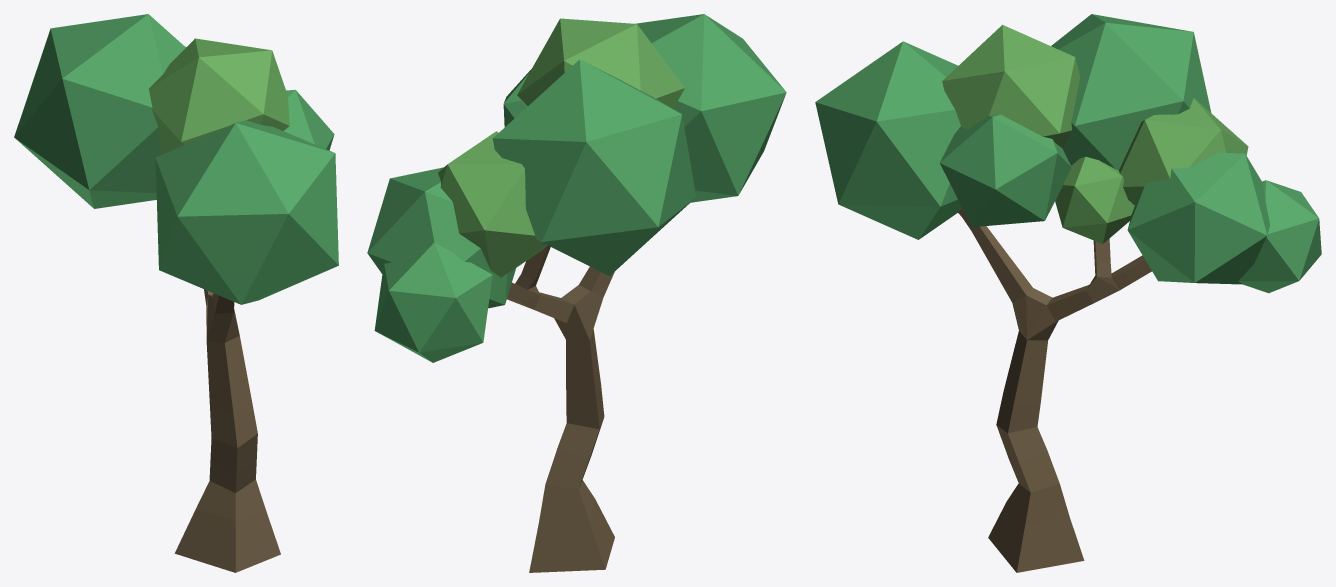
File: Tree.fbx
The picture shows the model from 3 angles, left to right: view 1: azimuth 30°, elevation 25°; view 2: azimuth 150°, elevation 25°; view 3: azimuth 270°, elevation 25°; orthographic projection. The views are drawn at different scales.
Parts seen in each view (by area): view 1: Icosphere.003, Icosphere.006, Cube, Icosphere.002, Icosphere.005; view 2: Icosphere.006, Icosphere.003, Cube, Icosphere, Icosphere.001, Icosphere.002, Icosphere.007, Icosphere.005; view 3: Icosphere.003, Cube, Icosphere.006, Icosphere.007, Icosphere.002, Icosphere.005, Icosphere.001, Icosphere, Icosphere.004.
Part boxes in pixels (x1,y1,x2,y2): Icosphere.003: [155, 120, 338, 304]; Icosphere.006: [14, 14, 185, 208]; Cube: [174, 289, 280, 572]; Icosphere.002: [149, 38, 289, 154]; Icosphere.005: [284, 89, 334, 150]; Icosphere.006: [493, 59, 696, 276]; Icosphere.003: [636, 14, 786, 202]; Cube: [507, 245, 614, 572]; Icosphere: [374, 242, 492, 362]; Icosphere.001: [438, 131, 547, 277]; Icosphere.002: [517, 18, 684, 108]; Icosphere.007: [367, 167, 515, 308]; Icosphere.005: [503, 69, 531, 126]; Icosphere.003: [815, 41, 961, 239]; Cube: [957, 208, 1151, 572]; Icosphere.006: [1051, 14, 1211, 170]; Icosphere.007: [1127, 152, 1269, 284]; Icosphere.002: [942, 24, 1080, 148]; Icosphere.005: [940, 114, 1071, 227]; Icosphere.001: [1119, 98, 1248, 205]; Icosphere: [1238, 180, 1321, 293]; Icosphere.004: [1055, 156, 1134, 243].
Size of the model in its own units: 448 by 899 by 810.
